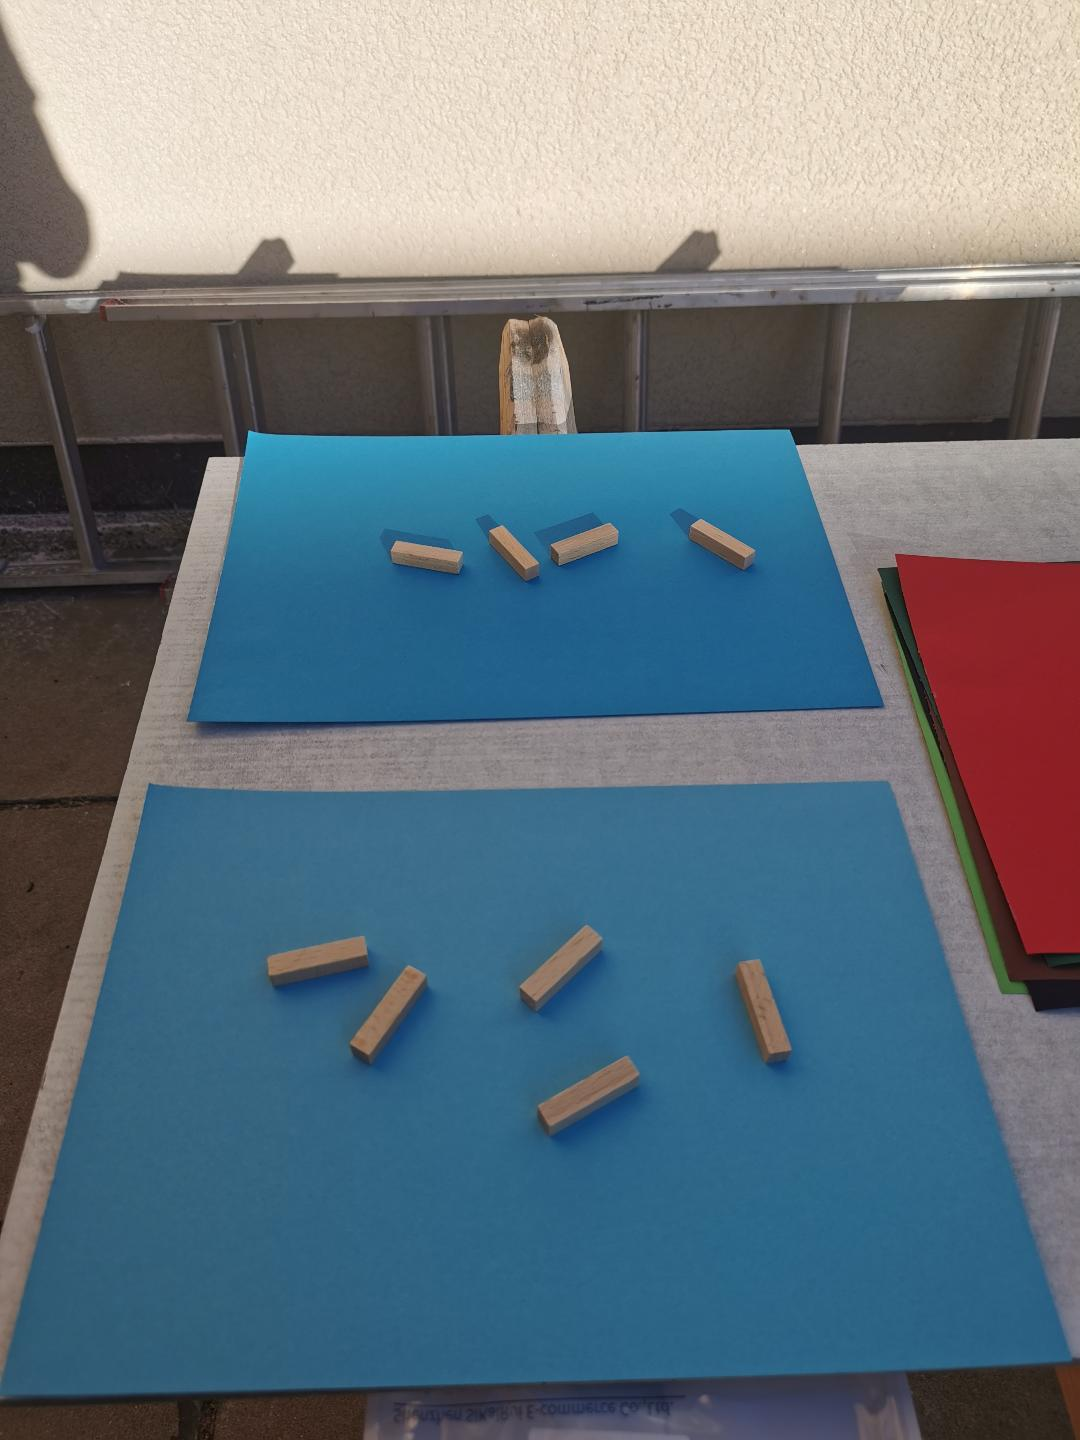jenga: (537, 1058, 638, 1136), (349, 965, 428, 1063), (520, 925, 602, 1010), (734, 959, 790, 1063), (267, 937, 368, 984), (689, 520, 754, 571), (548, 523, 619, 565), (487, 526, 540, 582), (391, 540, 464, 574)
